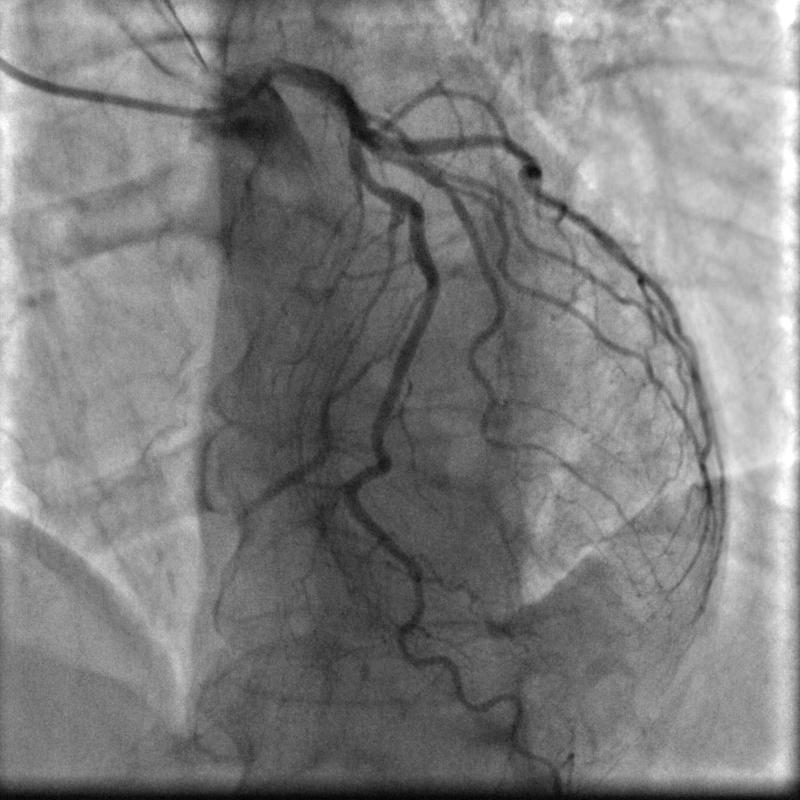Stenosis: (358, 173, 390, 188)
